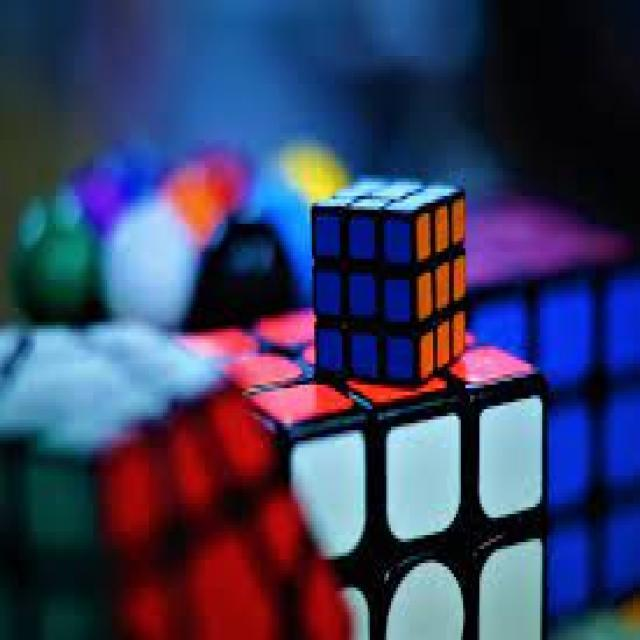Rub: (184, 311, 556, 640), (311, 175, 483, 384)
